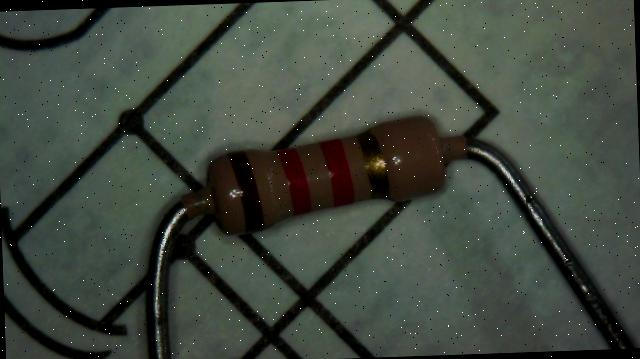brown: (230, 152, 266, 233)
gold: (358, 129, 390, 199)
red: (320, 138, 354, 205), (276, 148, 310, 215)
resistor: (189, 86, 476, 255)
